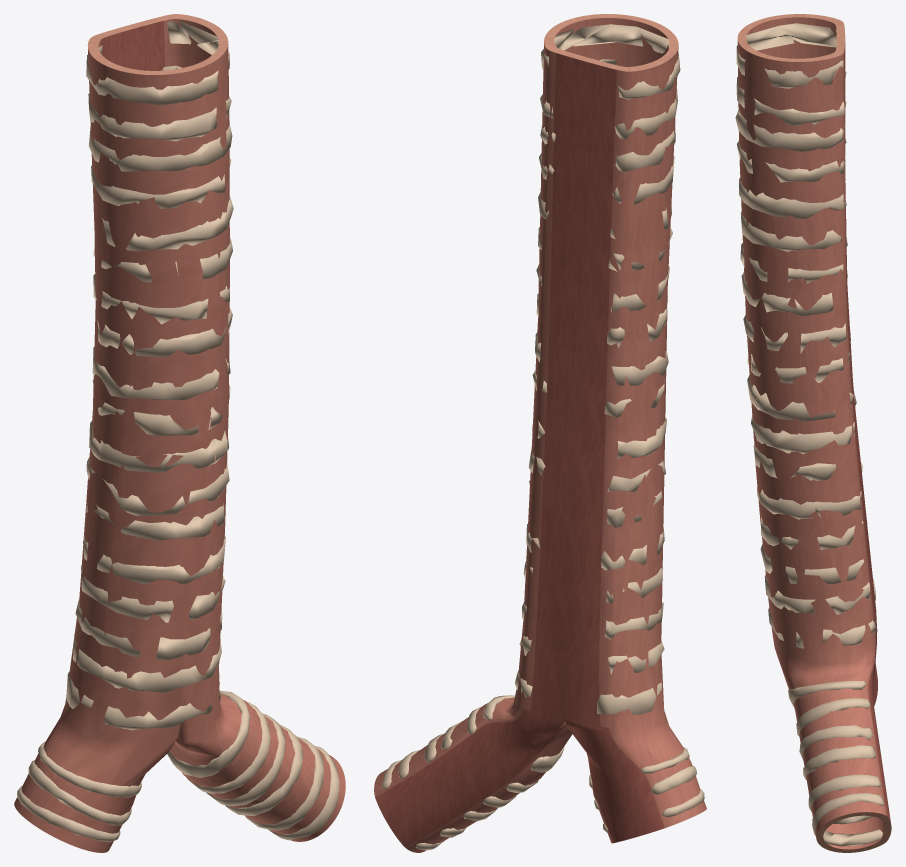
File: overview.glb
3 views of the same model, side by side, from view 1: azimuth 30°, elevation 25°; view 2: azimuth 150°, elevation 25°; view 3: azimuth 270°, elevation 25° (orthographic). The views are drawn at different scales.
Visible parts, largest first — view 1: trachea; view 2: trachea; view 3: trachea.
Boxes of the visible parts, left/top/right/bottom form: trachea: left=14, top=14, right=345, bottom=852; trachea: left=374, top=14, right=706, bottom=852; trachea: left=735, top=14, right=891, bottom=852.
Size of the model in its own units: 0.0442 by 0.1124 by 0.0213.
4 materials, 4 textured.
